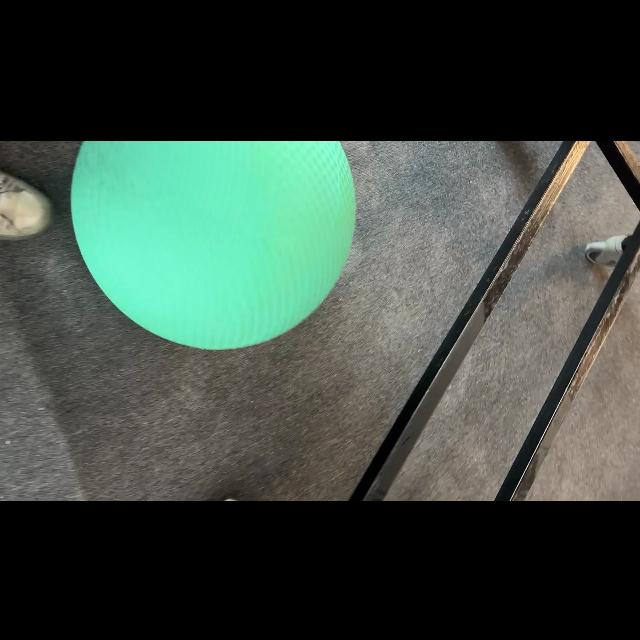ALGAE: (70, 140, 358, 350)
